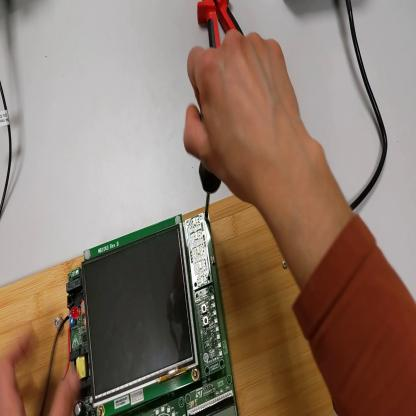hand: (187, 30, 316, 213), (2, 322, 81, 415)
low voltage board: (42, 213, 239, 416)
screwdriver-: (200, 163, 226, 218)
working area: (2, 191, 337, 414)
